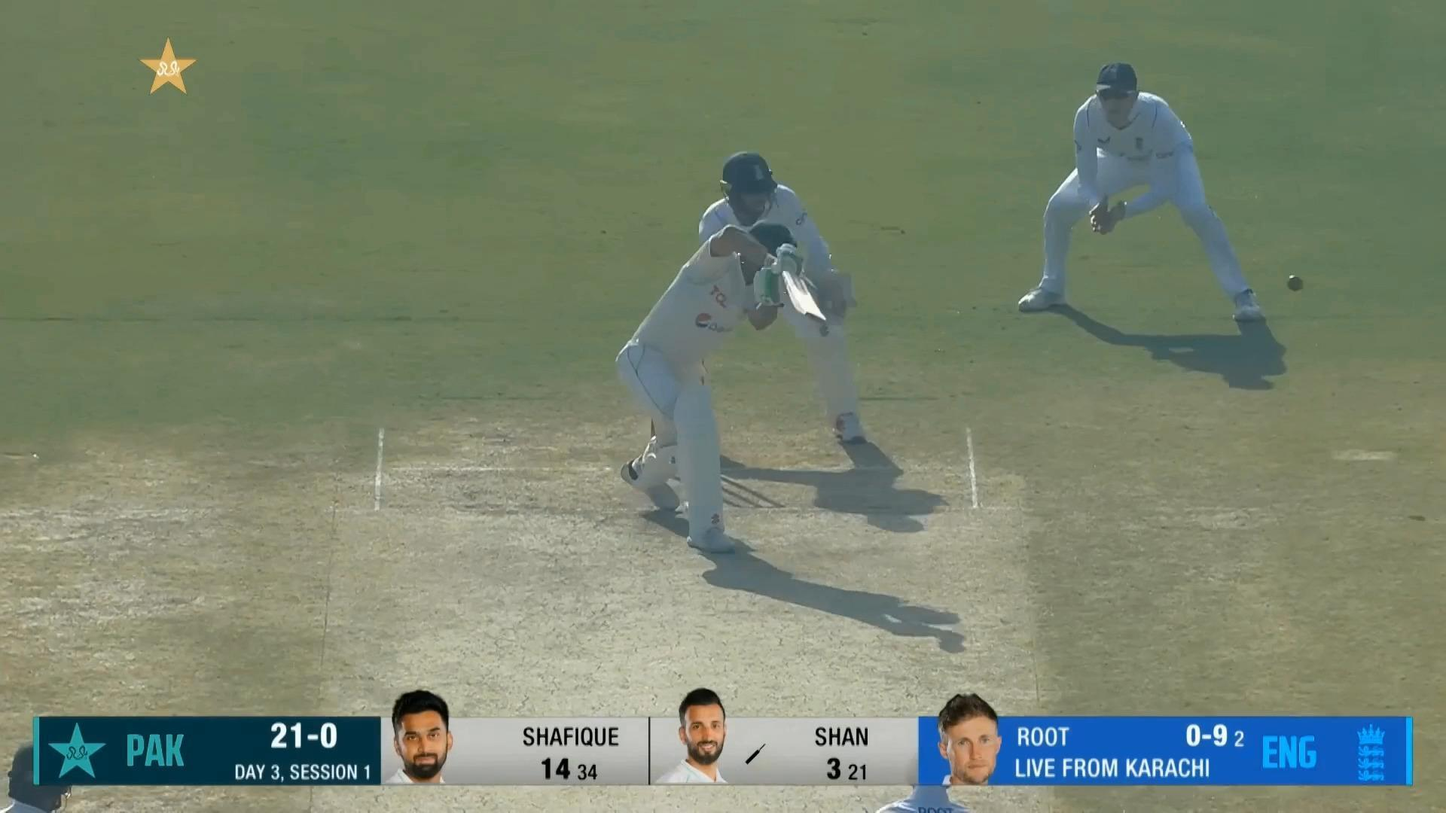BM 1: (615, 219, 829, 554)
BO: (876, 746, 977, 813)
